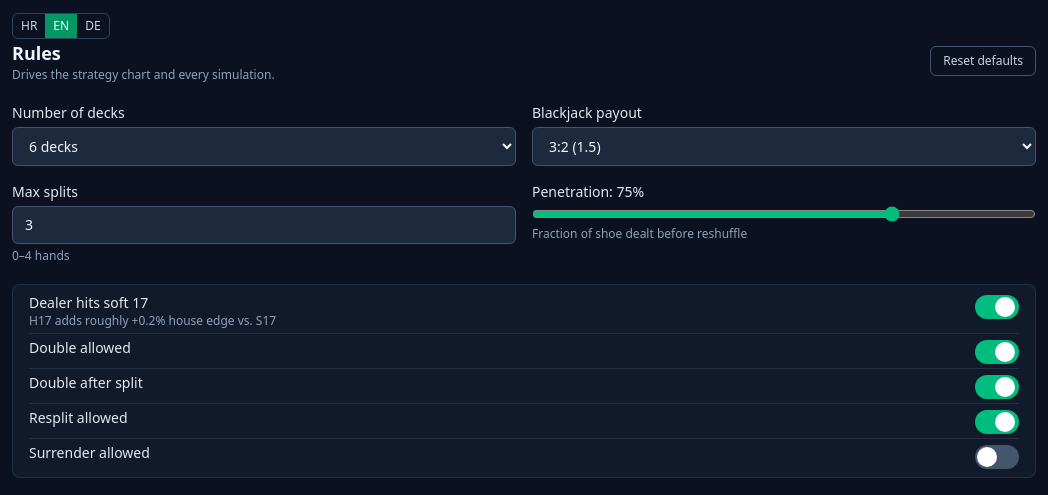
Test: i18n › switches language via the LanguageSwitcher
Expected: the heading "Rules" is shown, [12,41,61,65]
Click the button "HR" at (29, 26), box [13,14,45,38]
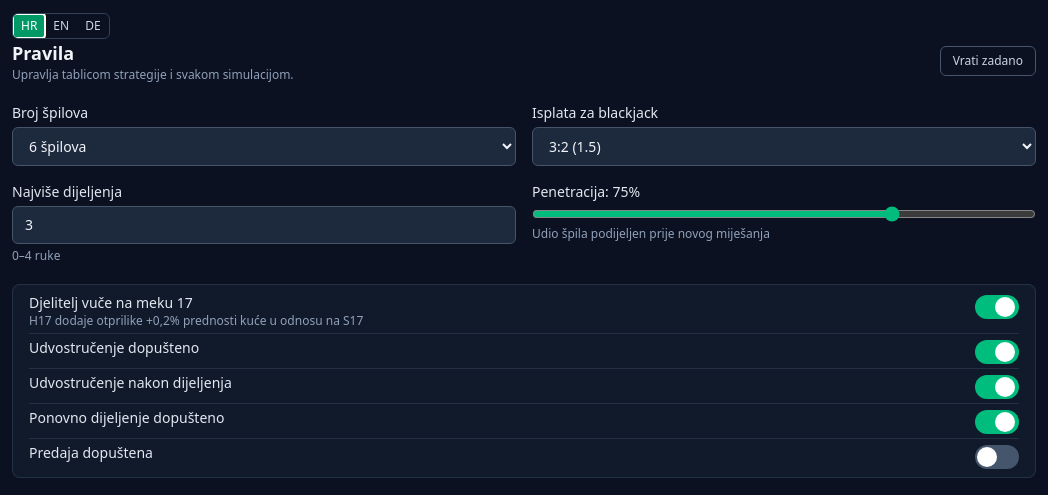
Now the heading "Pravila" is shown, box [12,41,74,65]
